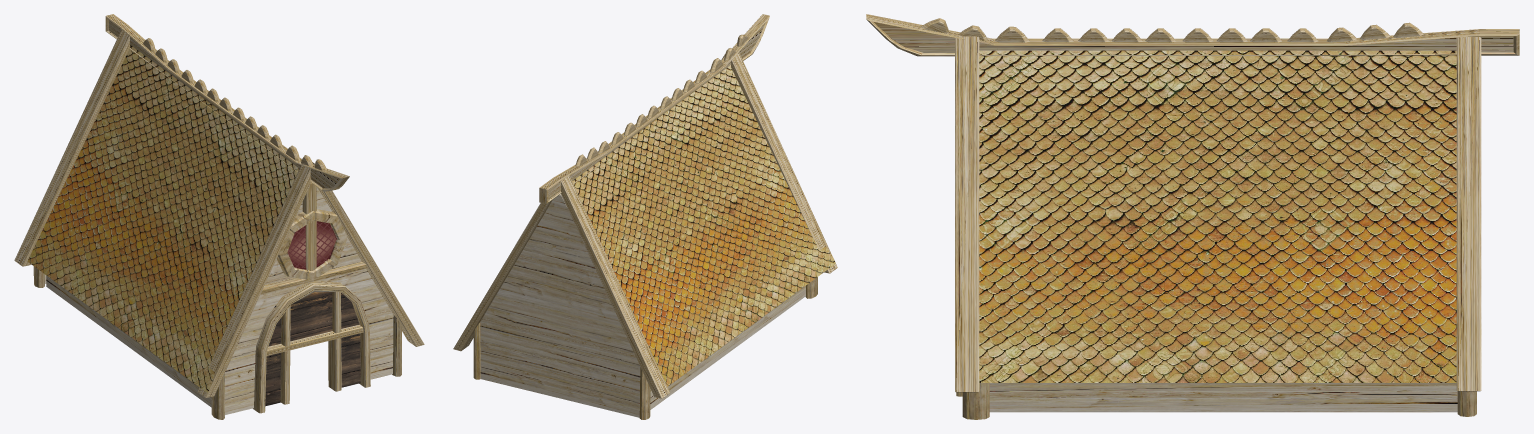
Rendered from house.fbx.
3 views of the same model, side by side, from view 1: azimuth 30°, elevation 25°; view 2: azimuth 150°, elevation 25°; view 3: azimuth 270°, elevation 25° (orthographic). The views are drawn at different scales.
Parts seen in each view (by area): view 1: pasted__polySurface12, pasted__polySurface1, pasted__polySurface18, pasted__pCube137, pasted__pCube138, pasted__pasted__pasted__pasted__polySurface5, pasted__pCube87, pasted__pCube4, pasted__pasted__pasted__pasted__polySurface1, pasted__pPipe1, pasted__polySurface11, pasted__polySurface9 (+6 smaller); view 2: pasted__polySurface12, pasted__pasted__polySurface1, pasted__pCube138, pasted__pCube87, pasted__pCube137, pasted__pasted__pasted__pasted__polySurface1, pasted__pCube6, pasted__pCylinder26, pasted__pasted__pCylinder26; view 3: pasted__polySurface2, pasted__pasted__pasted__polySurface1, pasted__pCube87, pasted__pCube6, pasted__pCube4, pasted__pCylinder5.
Part boxes in pixels (x1,y1,x2,y2): pasted__polySurface12: [27, 45, 310, 392]; pasted__polySurface1: [224, 187, 393, 414]; pasted__polySurface18: [265, 292, 360, 406]; pasted__pCube137: [197, 163, 310, 397]; pasted__pCube138: [14, 29, 129, 266]; pasted__pasted__pasted__pasted__polySurface5: [253, 281, 370, 413]; pasted__pCube87: [105, 14, 349, 191]; pasted__pCube4: [312, 162, 424, 346]; pasted__pasted__pasted__pasted__polySurface1: [46, 275, 211, 407]; pasted__pPipe1: [277, 209, 347, 280]; pasted__polySurface11: [287, 221, 337, 269]; pasted__polySurface9: [328, 292, 341, 391]; pasted__polySurface12: [572, 65, 835, 386]; pasted__pasted__polySurface1: [480, 195, 640, 417]; pasted__pCube138: [561, 175, 669, 398]; pasted__pCube87: [539, 14, 769, 203]; pasted__pCube137: [731, 52, 837, 273]; pasted__pasted__pasted__pasted__polySurface1: [650, 286, 805, 409]; pasted__pCube6: [453, 200, 552, 351]; pasted__pCylinder26: [639, 360, 650, 419]; pasted__pasted__pCylinder26: [473, 322, 480, 379]; pasted__polySurface2: [979, 50, 1456, 382]; pasted__pasted__pasted__polySurface1: [989, 383, 1457, 412]; pasted__pCube87: [866, 14, 1519, 56]; pasted__pCube6: [1456, 37, 1481, 391]; pasted__pCube4: [955, 36, 979, 392]; pasted__pCylinder5: [962, 383, 989, 419].
Bounding box in the file's own units: 82.93 × 88.45 × 153.
Materials: 14 (12 with a texture image).
